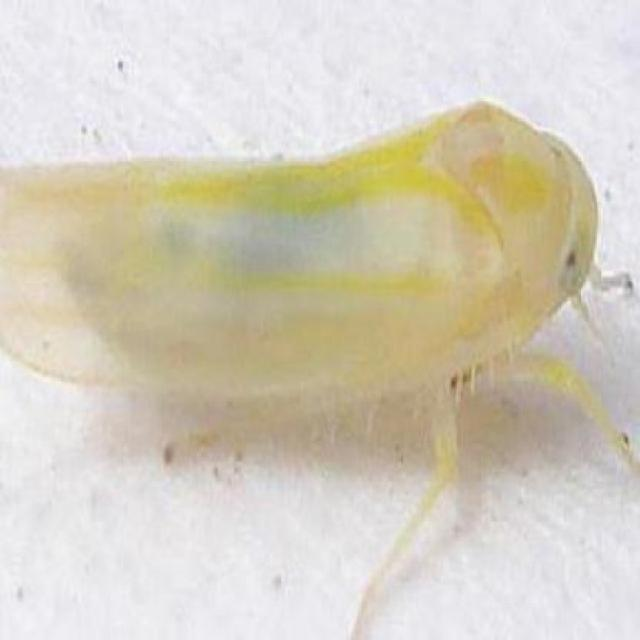green-leafhopper: (5, 106, 592, 414)
